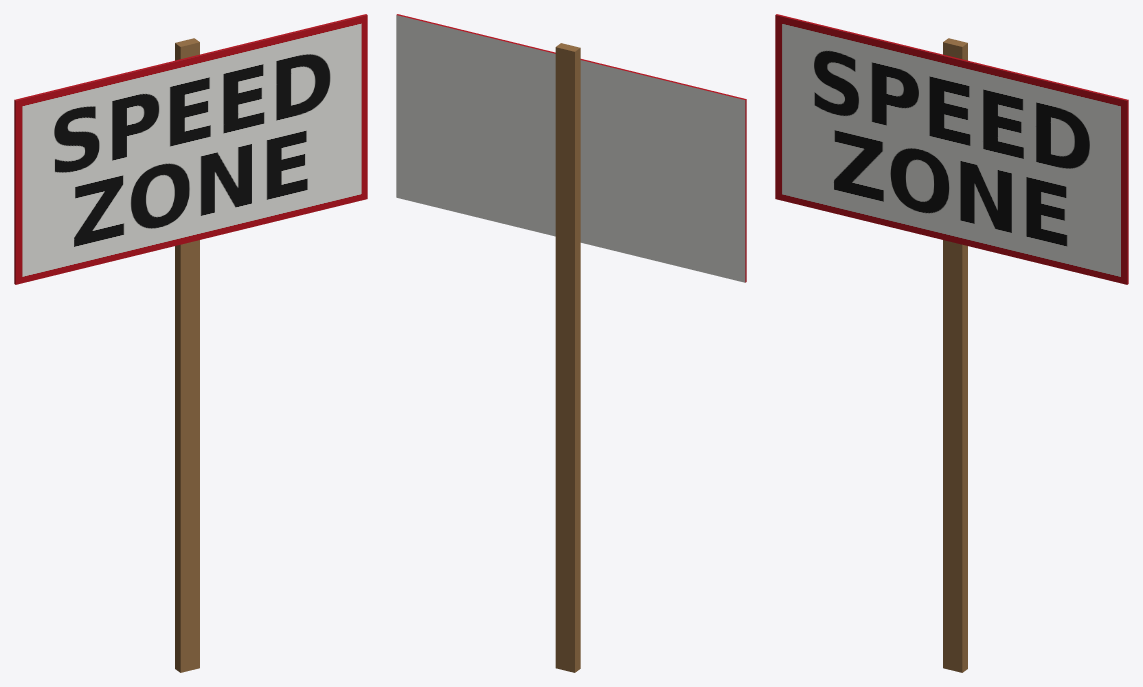
The model's file is sign_zone.dae.
The picture shows the model from 3 angles, left to right: view 1: azimuth 30°, elevation 25°; view 2: azimuth 150°, elevation 25°; view 3: azimuth 330°, elevation 25°; orthographic projection.
Visible parts, largest first — view 1: marker; view 2: marker; view 3: marker.
Part boxes in pixels (bbox=[...]): marker: bbox=[14, 14, 367, 672]; marker: bbox=[396, 14, 746, 672]; marker: bbox=[775, 14, 1128, 672].
Size of the model in its own units: 0.9 by 0.031 by 1.53.
Materials: 1 (1 with a texture image).
